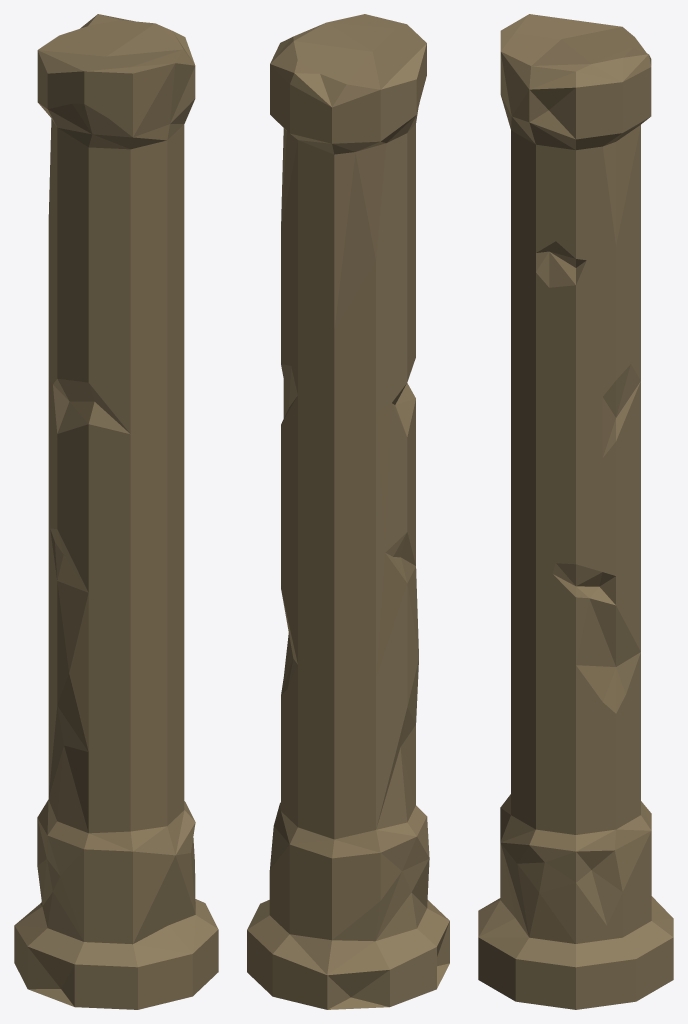
File: Column_3_low.fbx
3 views of the same model, side by side, from view 1: azimuth 30°, elevation 25°; view 2: azimuth 150°, elevation 25°; view 3: azimuth 270°, elevation 25° (orthographic).
Visible parts, largest first — view 1: Column_3_low; view 2: Column_3_low; view 3: Column_3_low.
Boxes of the visible parts, x1=… form: Column_3_low: x1=14, y1=14, x2=218, y2=1009; Column_3_low: x1=247, y1=14, x2=449, y2=1009; Column_3_low: x1=478, y1=14, x2=673, y2=1009.
Bounding box in the file's own units: 0.4225 × 2.1 × 0.4018.
